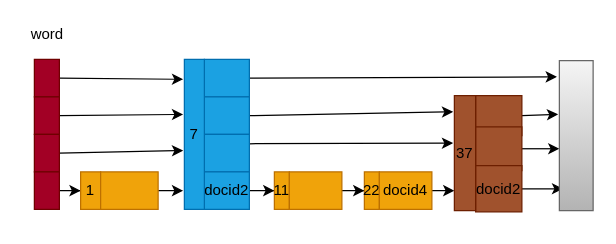
This 616x244 diagram has some shape labels left out. Here are the shapes that lost their labels. From the top down, the centre of each, then its label:
At pixel 575 135: "NULL".
At pixel 128 190: "docid1".
At pixel 315 190: "docid3".
